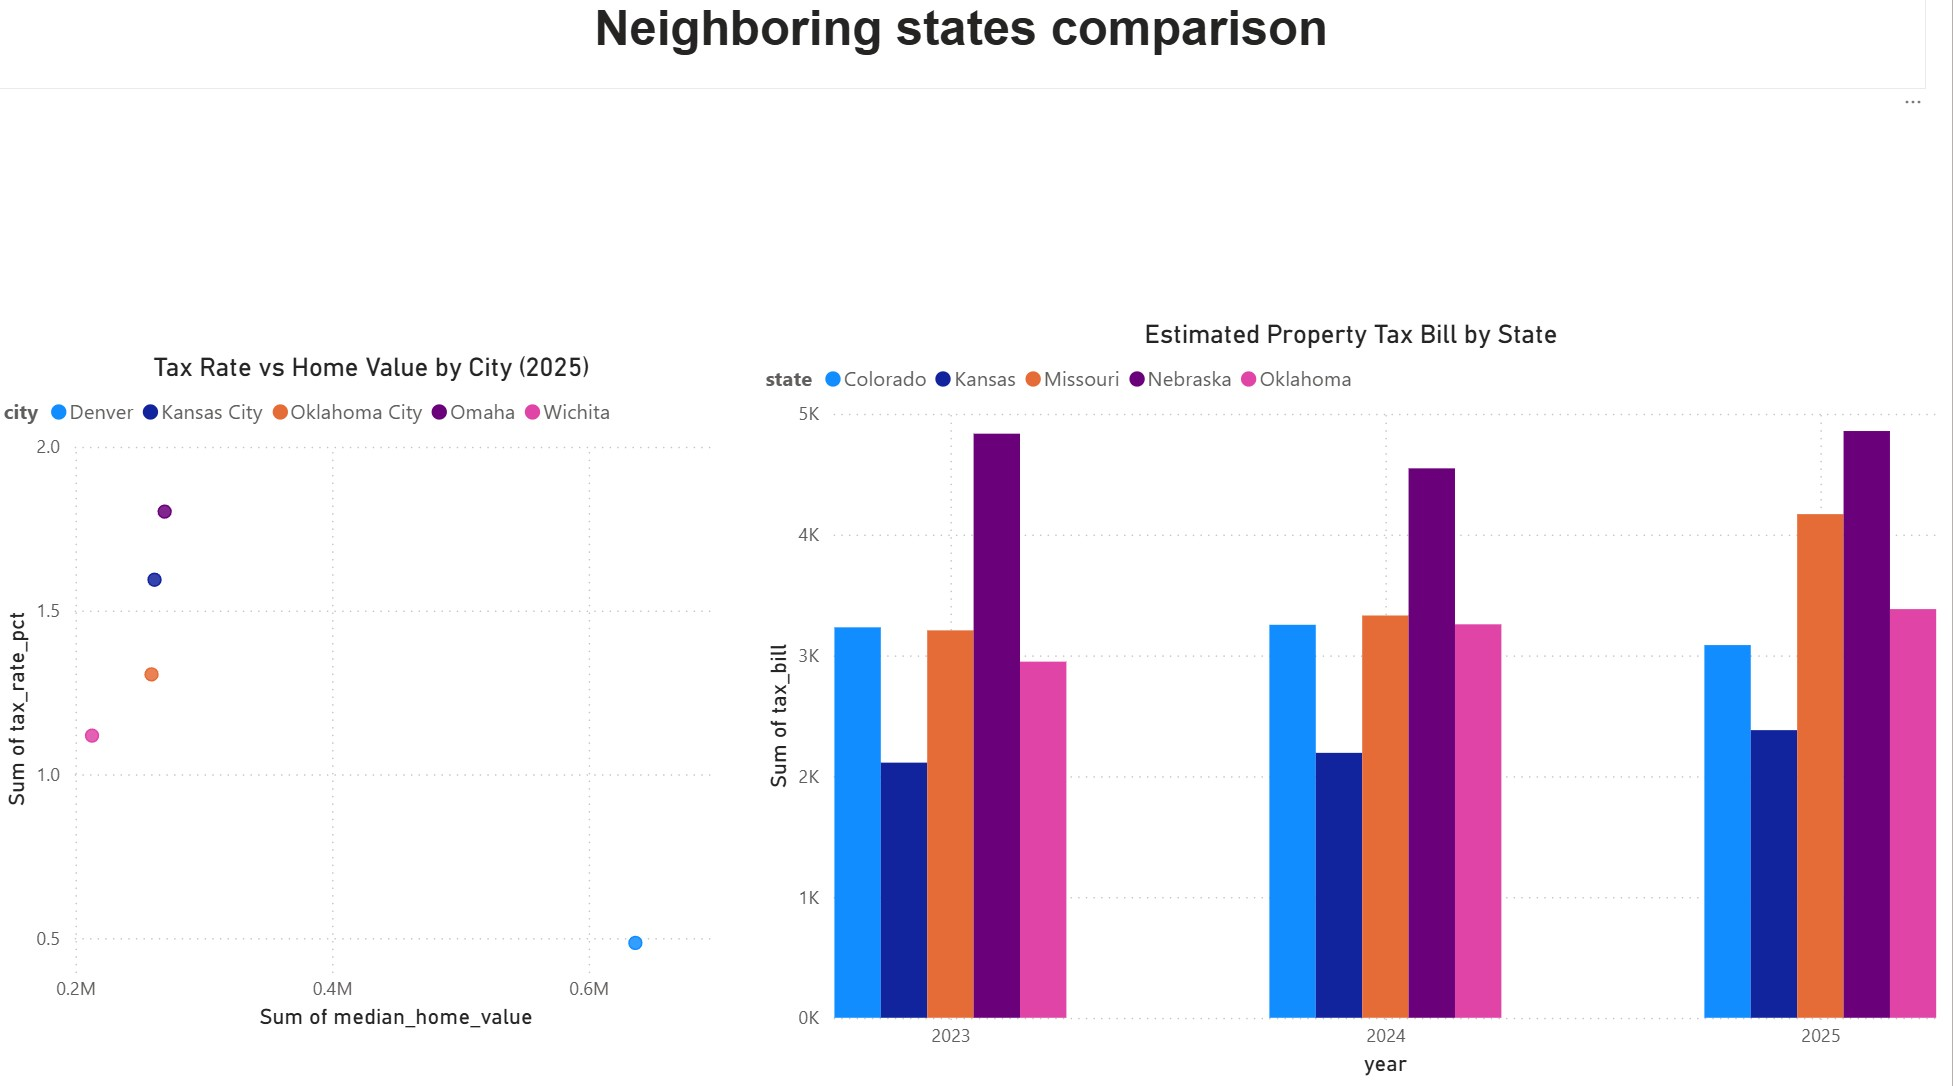

The dashboard page shown, as its layout file describes it:
{"tool":"powerbi","page":{"name":"Page 2","canvas":[1280,720],"ordinal":1},"visuals":[{"type":"clusteredColumnChart","title":"Estimated Property Tax Bill by State","fields":{"Category":["neighbor_state_comparison.year"],"Y":["Sum(neighbor_state_comparison.tax_bill)"],"Series":["neighbor_state_comparison.state"]},"box":[498.7,213.3,776.1,500.6],"z":0},{"type":"scatterChart","title":"Tax Rate vs Home Value by City (2025)","fields":{"X":["Sum(neighbor_state_comparison.median_home_value)"],"Y":["Sum(neighbor_state_comparison.tax_rate_pct)"],"Series":["neighbor_state_comparison.city"]},"box":[0,234.9,490.8,448.3],"z":1},{"type":"textbox","box":[0,0,1263,62.8],"z":2}]}

Visuals, with their boxes in screenshot pixels (x1, y1, x2, y2), scaled from the page's 1280x720 canvas onto the 1953x1086 screenshot:
"Estimated Property Tax Bill by State" clusteredColumnChart: (761, 322, 1945, 1077)
"Tax Rate vs Home Value by City (2025)" scatterChart: (0, 354, 749, 1030)
textbox: (0, 0, 1927, 95)
